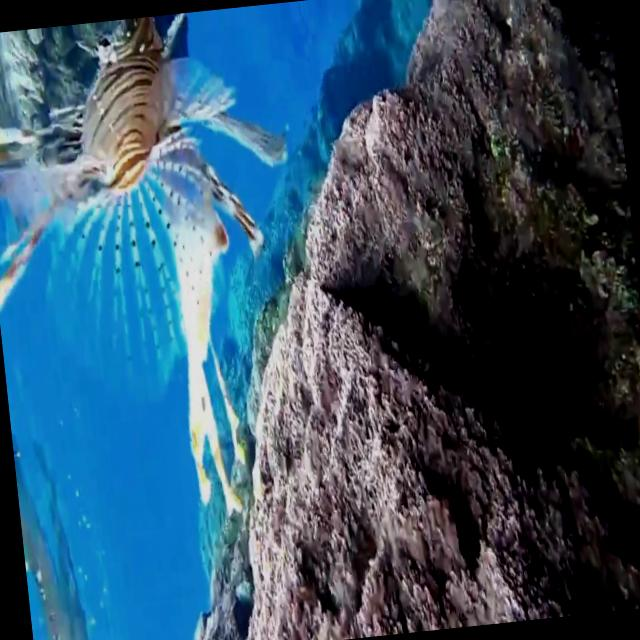Aslan Baligi: (0, 5, 323, 540)
